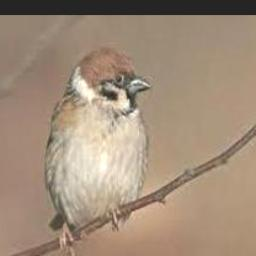Sparrow: (46, 46, 153, 255)
